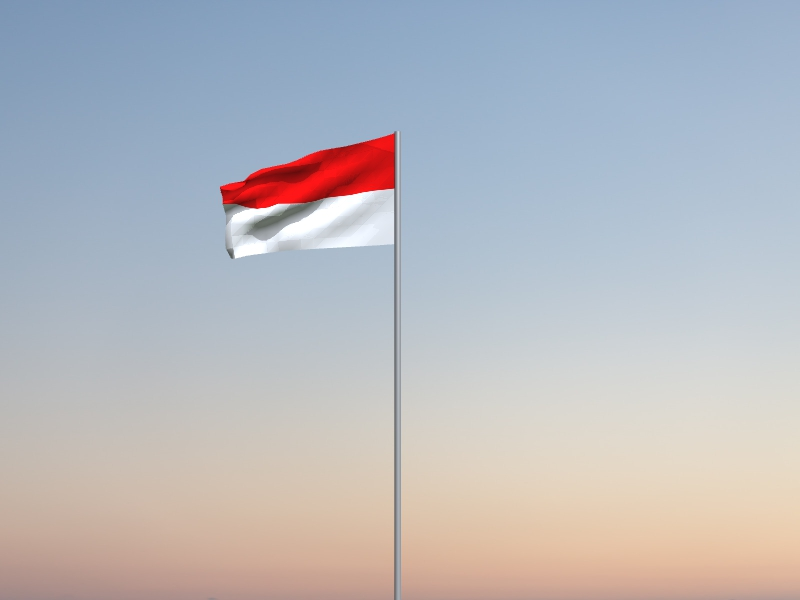id: (220, 134, 394, 261)
